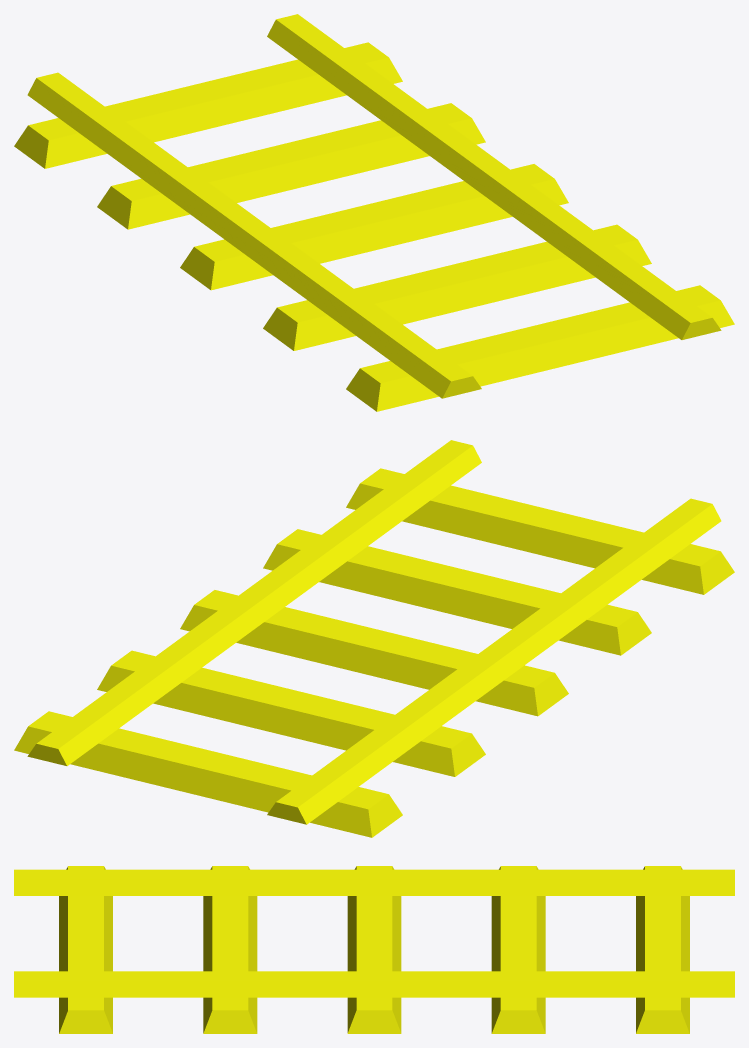
File: kaykit-tracks-straight.glb
3 views of the same model, one above another, from view 1: azimuth 30°, elevation 25°; view 2: azimuth 150°, elevation 25°; view 3: azimuth 270°, elevation 25° (orthographic). The views are drawn at different scales.
Parts seen in each view (by area): view 1: tracks_straight; view 2: tracks_straight; view 3: tracks_straight.
Part boxes in pixels (x1=…): tracks_straight: x1=14, y1=14, x2=734, y2=411; tracks_straight: x1=14, y1=440, x2=734, y2=837; tracks_straight: x1=14, y1=866, x2=734, y2=1033.
Bounding box in the file's own units: 0.4985 × 0.0501 × 1.
